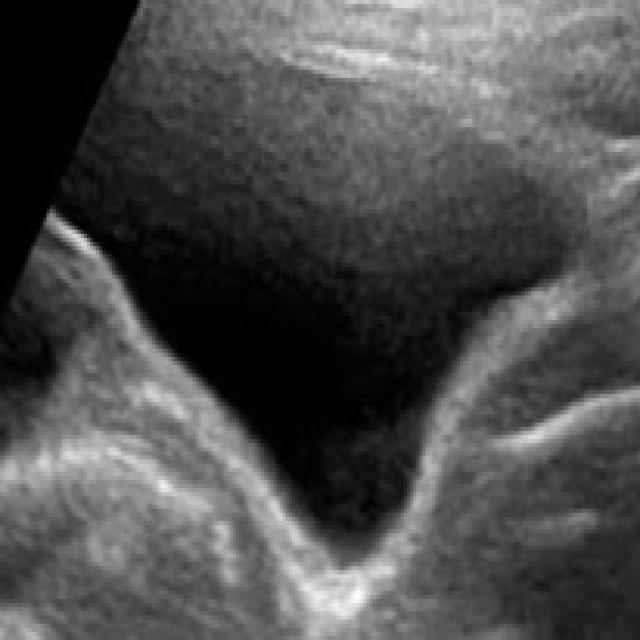bladder: (45, 2, 606, 615)
